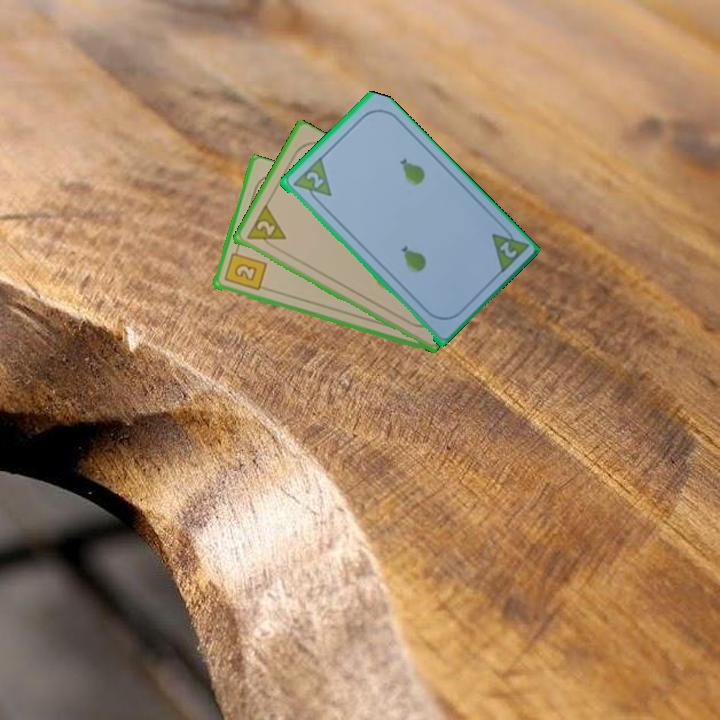2b: (220, 244, 269, 294)
2p: (243, 203, 289, 252), (302, 168, 326, 191), (495, 238, 519, 261)
